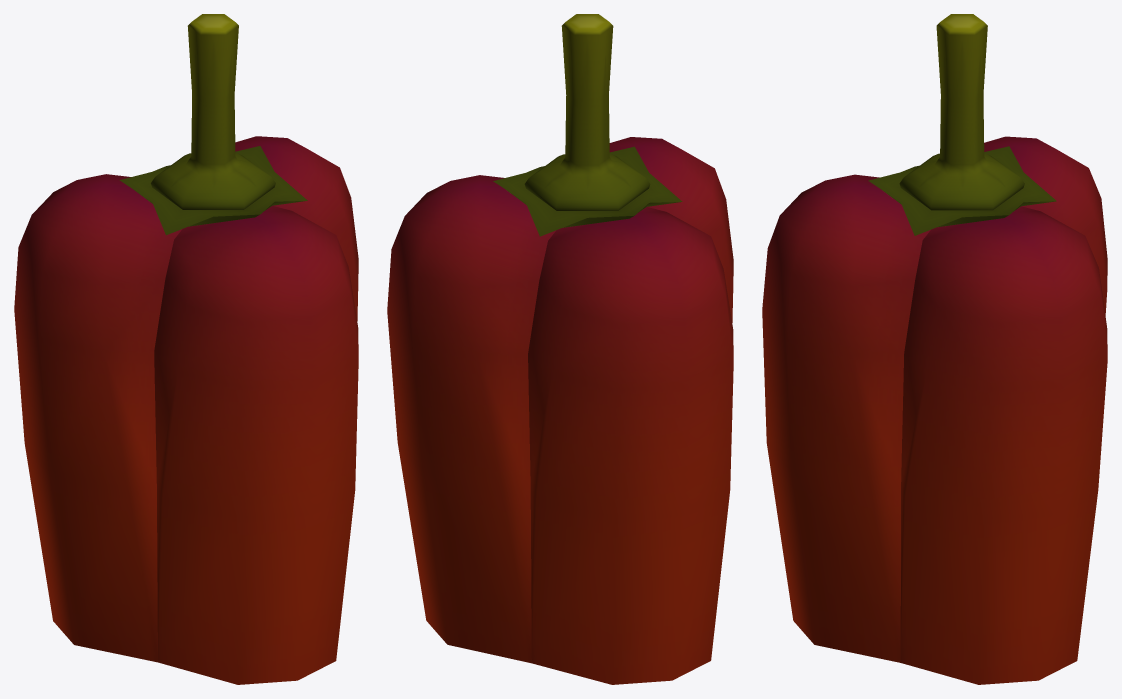
File: Pepper_Pointed_Half_Top.fbx
The picture shows the model from 3 angles, left to right: view 1: azimuth 30°, elevation 25°; view 2: azimuth 150°, elevation 25°; view 3: azimuth 270°, elevation 25°; orthographic projection.
Parts seen in each view (by area): view 1: Pepper_Pointed_Half_Top; view 2: Pepper_Pointed_Half_Top; view 3: Pepper_Pointed_Half_Top.
Boxes of the visible parts, x1,y1,x2,y2 form: Pepper_Pointed_Half_Top: (14, 14, 358, 684); Pepper_Pointed_Half_Top: (387, 14, 733, 684); Pepper_Pointed_Half_Top: (762, 14, 1107, 684).
Bounding box in the file's own units: 1.64 × 2.94 × 1.54.
